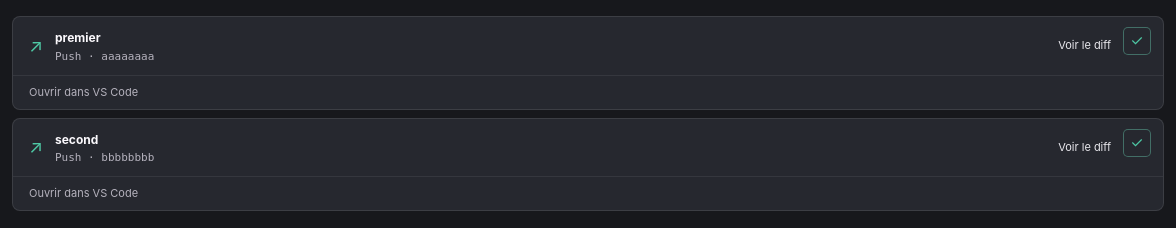
Test: acquitte puis masque un push sans toucher aux autres
Expected: the text "premier" is shown, [55,30,100,45]
Click the button named "Acquitter le push premier": (1137, 41) [1123,27,1151,55]
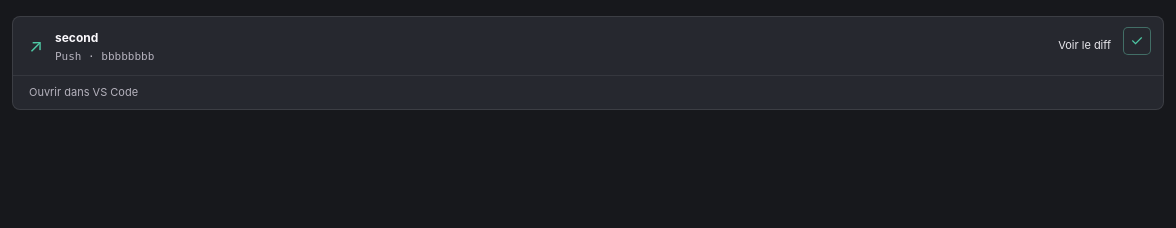
Expected: the text "second" is shown, [55,30,98,45]
Result: the button "premier" is gone
